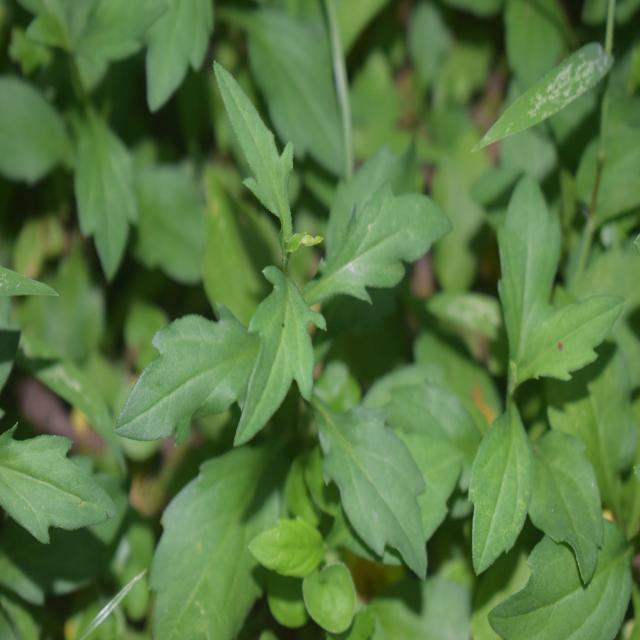Indian aster: (140, 100, 454, 564)
